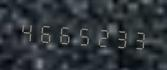five: (74, 19, 92, 50)
four: (17, 15, 35, 46)
six: (36, 16, 54, 47), (55, 18, 73, 49)
three: (112, 22, 130, 53), (131, 23, 149, 54)
two: (93, 20, 111, 51)
